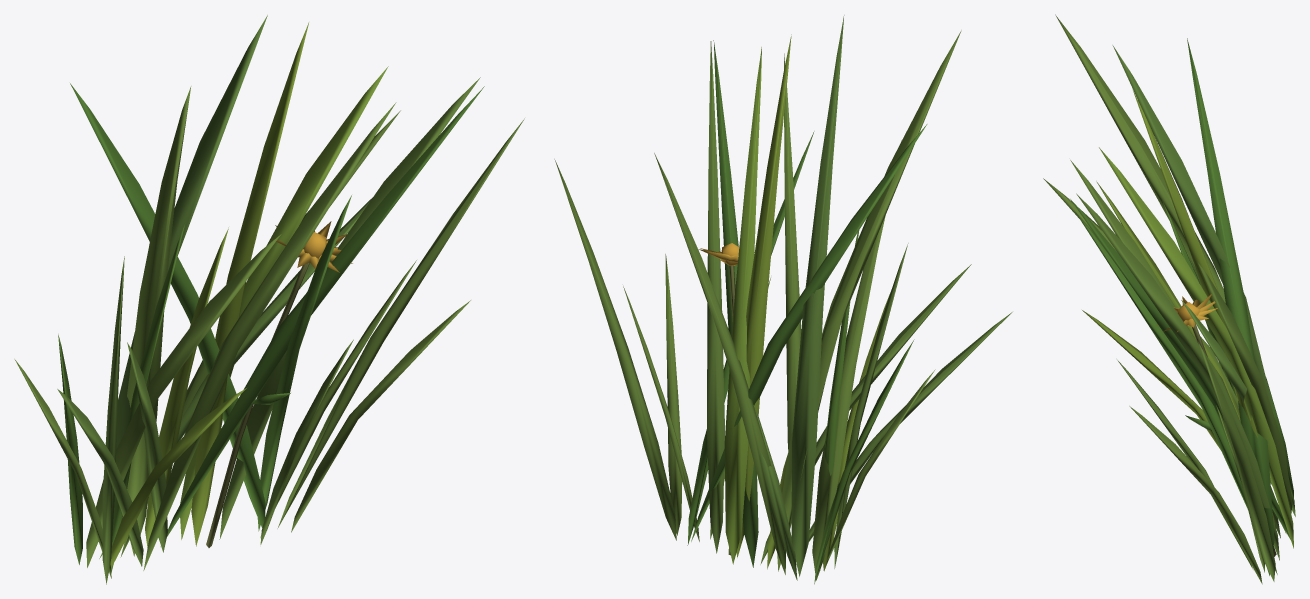
File: walltuft_dandelion.glb
3 renders of one model, left to right at view 1: azimuth 30°, elevation 25°; view 2: azimuth 150°, elevation 25°; view 3: azimuth 270°, elevation 25°, orthographic. The views are drawn at different scales.
Visible parts, largest first — view 1: Sammel Pflanze, Sammel Putz; view 2: Sammel Pflanze; view 3: Sammel Pflanze.
Part boxes in pixels (left/top/right/bottom): Sammel Pflanze: left=14, top=15, right=524, bottom=584; Sammel Putz: left=206, top=262, right=309, bottom=547; Sammel Pflanze: left=554, top=15, right=1012, bottom=584; Sammel Pflanze: left=1043, top=14, right=1295, bottom=584.
Bounding box in the file's own units: 0.312 × 0.3516 × 0.1629.
